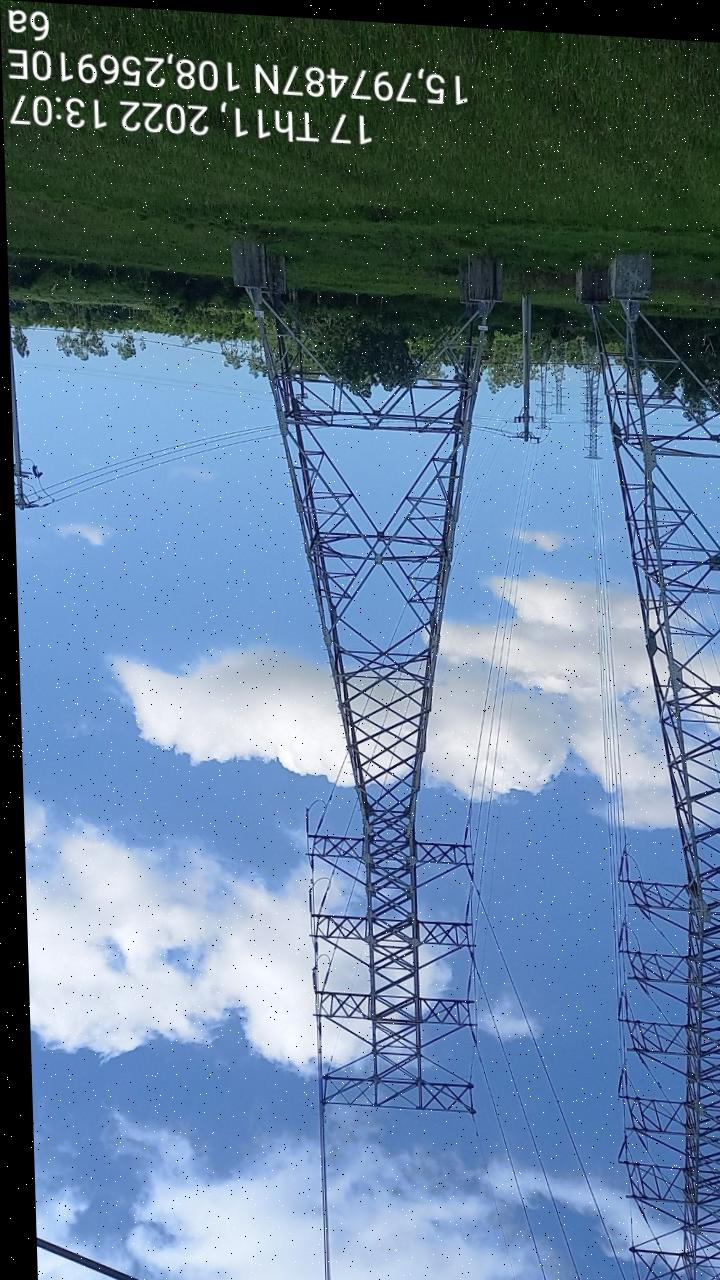tower: (257, 241, 488, 1142), (560, 269, 720, 1280)
